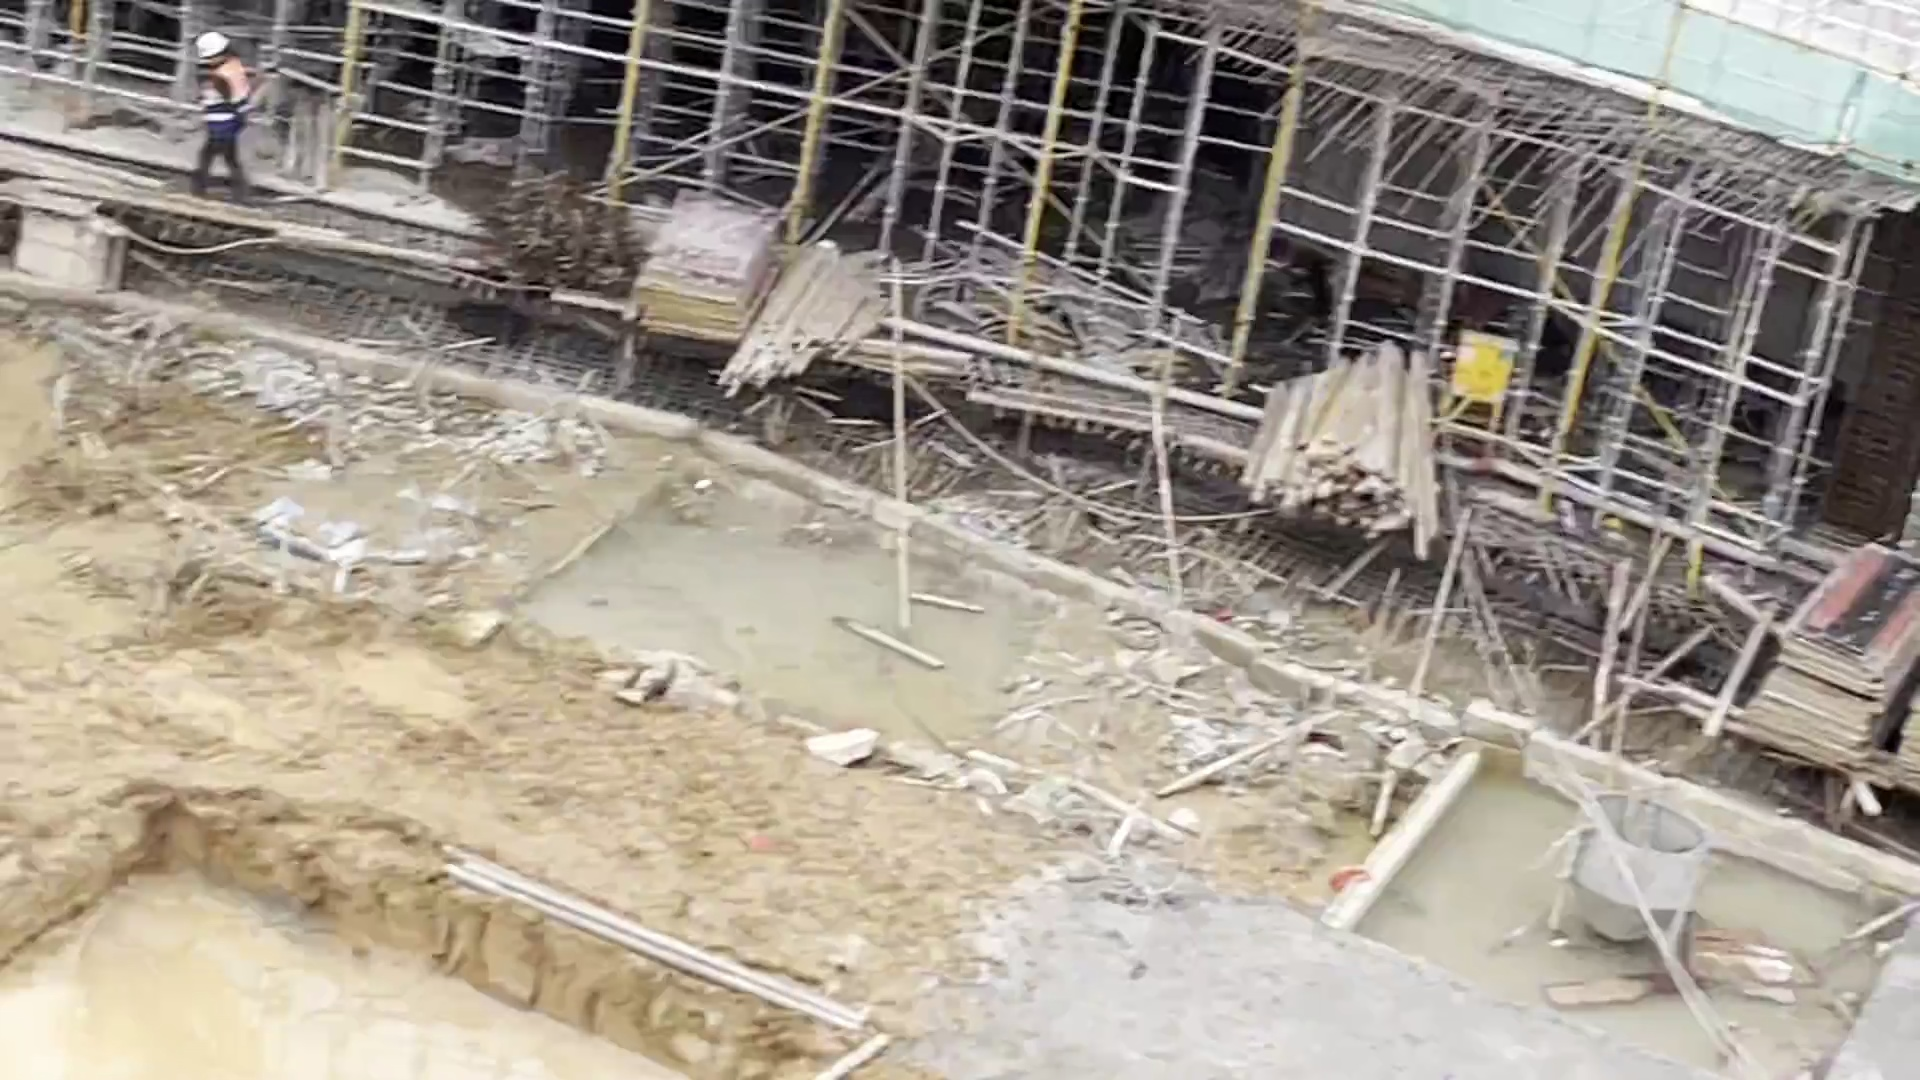board: (1730, 543, 1920, 752), (647, 188, 753, 336)
ebox: (1448, 328, 1506, 445)
helmet: (194, 30, 227, 60)
person: (188, 30, 248, 212)
vest: (202, 60, 244, 134)
wood: (1235, 345, 1449, 512), (723, 248, 894, 407)
